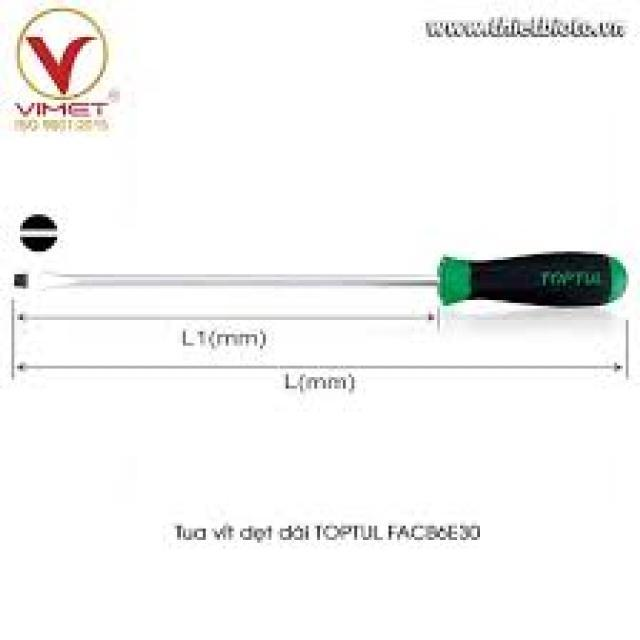screwdriver: (7, 247, 630, 310)
